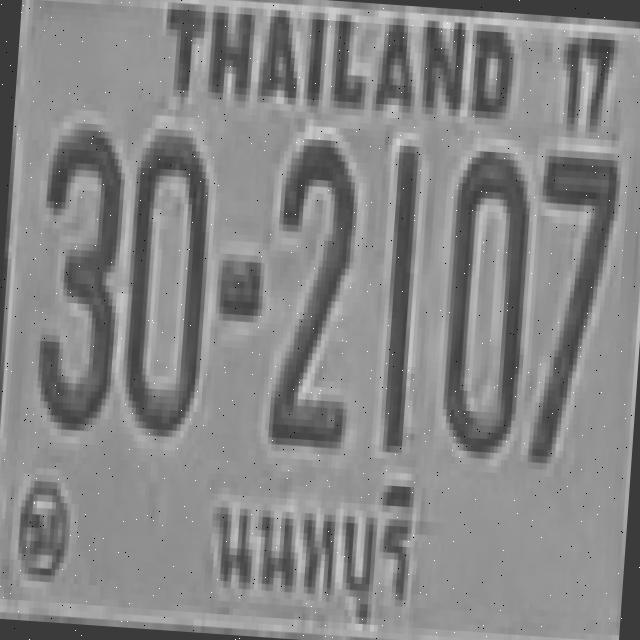0: (117, 126, 214, 432), (436, 142, 530, 454)
1: (374, 145, 418, 446)
2: (266, 134, 360, 445)
3: (27, 120, 124, 426)
7: (520, 148, 618, 460)
Nonthaburi: (198, 442, 420, 638)
